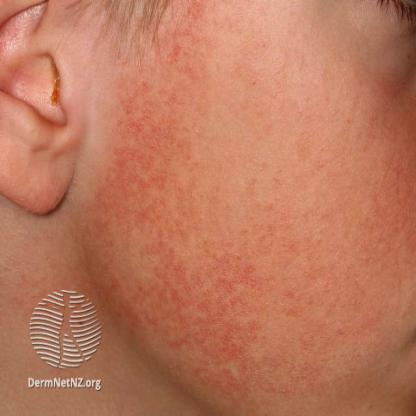Chicken Skin: (129, 63, 186, 274), (155, 238, 262, 343)
